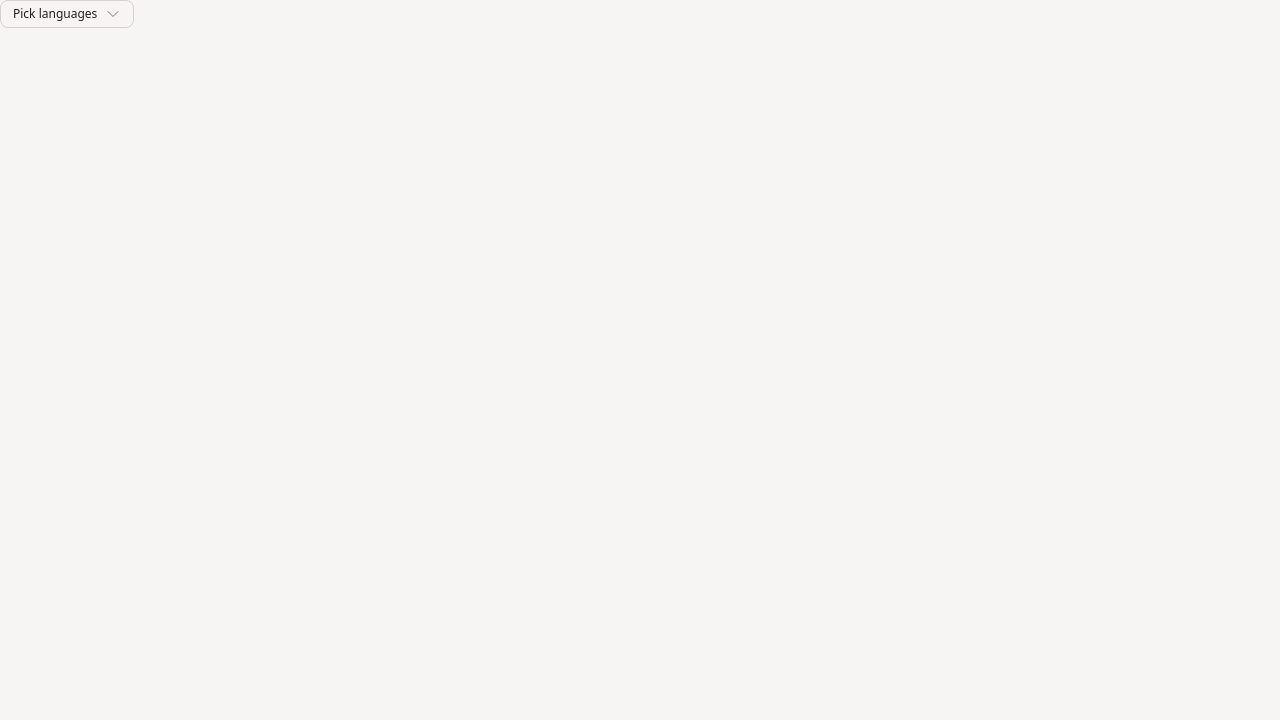
Test: MultiSelect › announces the empty state inside the popover
Click the button "Pick languages".
click(67, 14)  # box [0, 0, 134, 28]
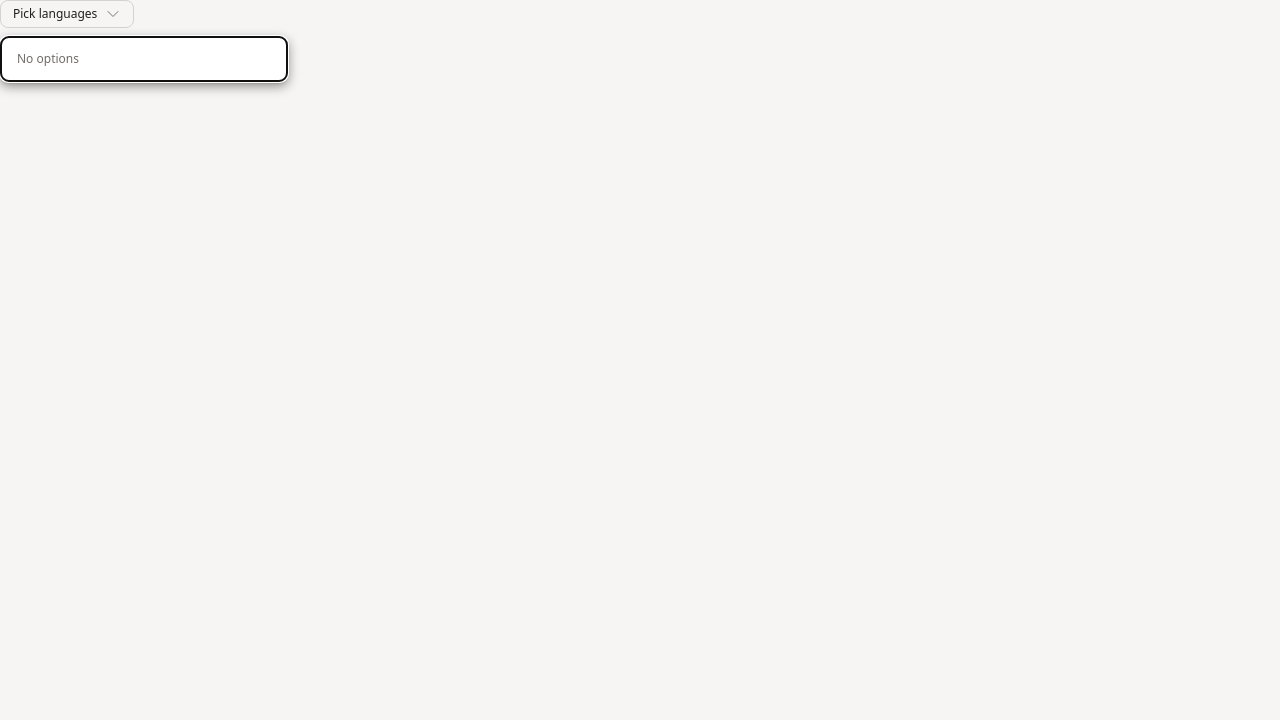
expect the text "No options" is shown: met, box [17, 50, 79, 67]
